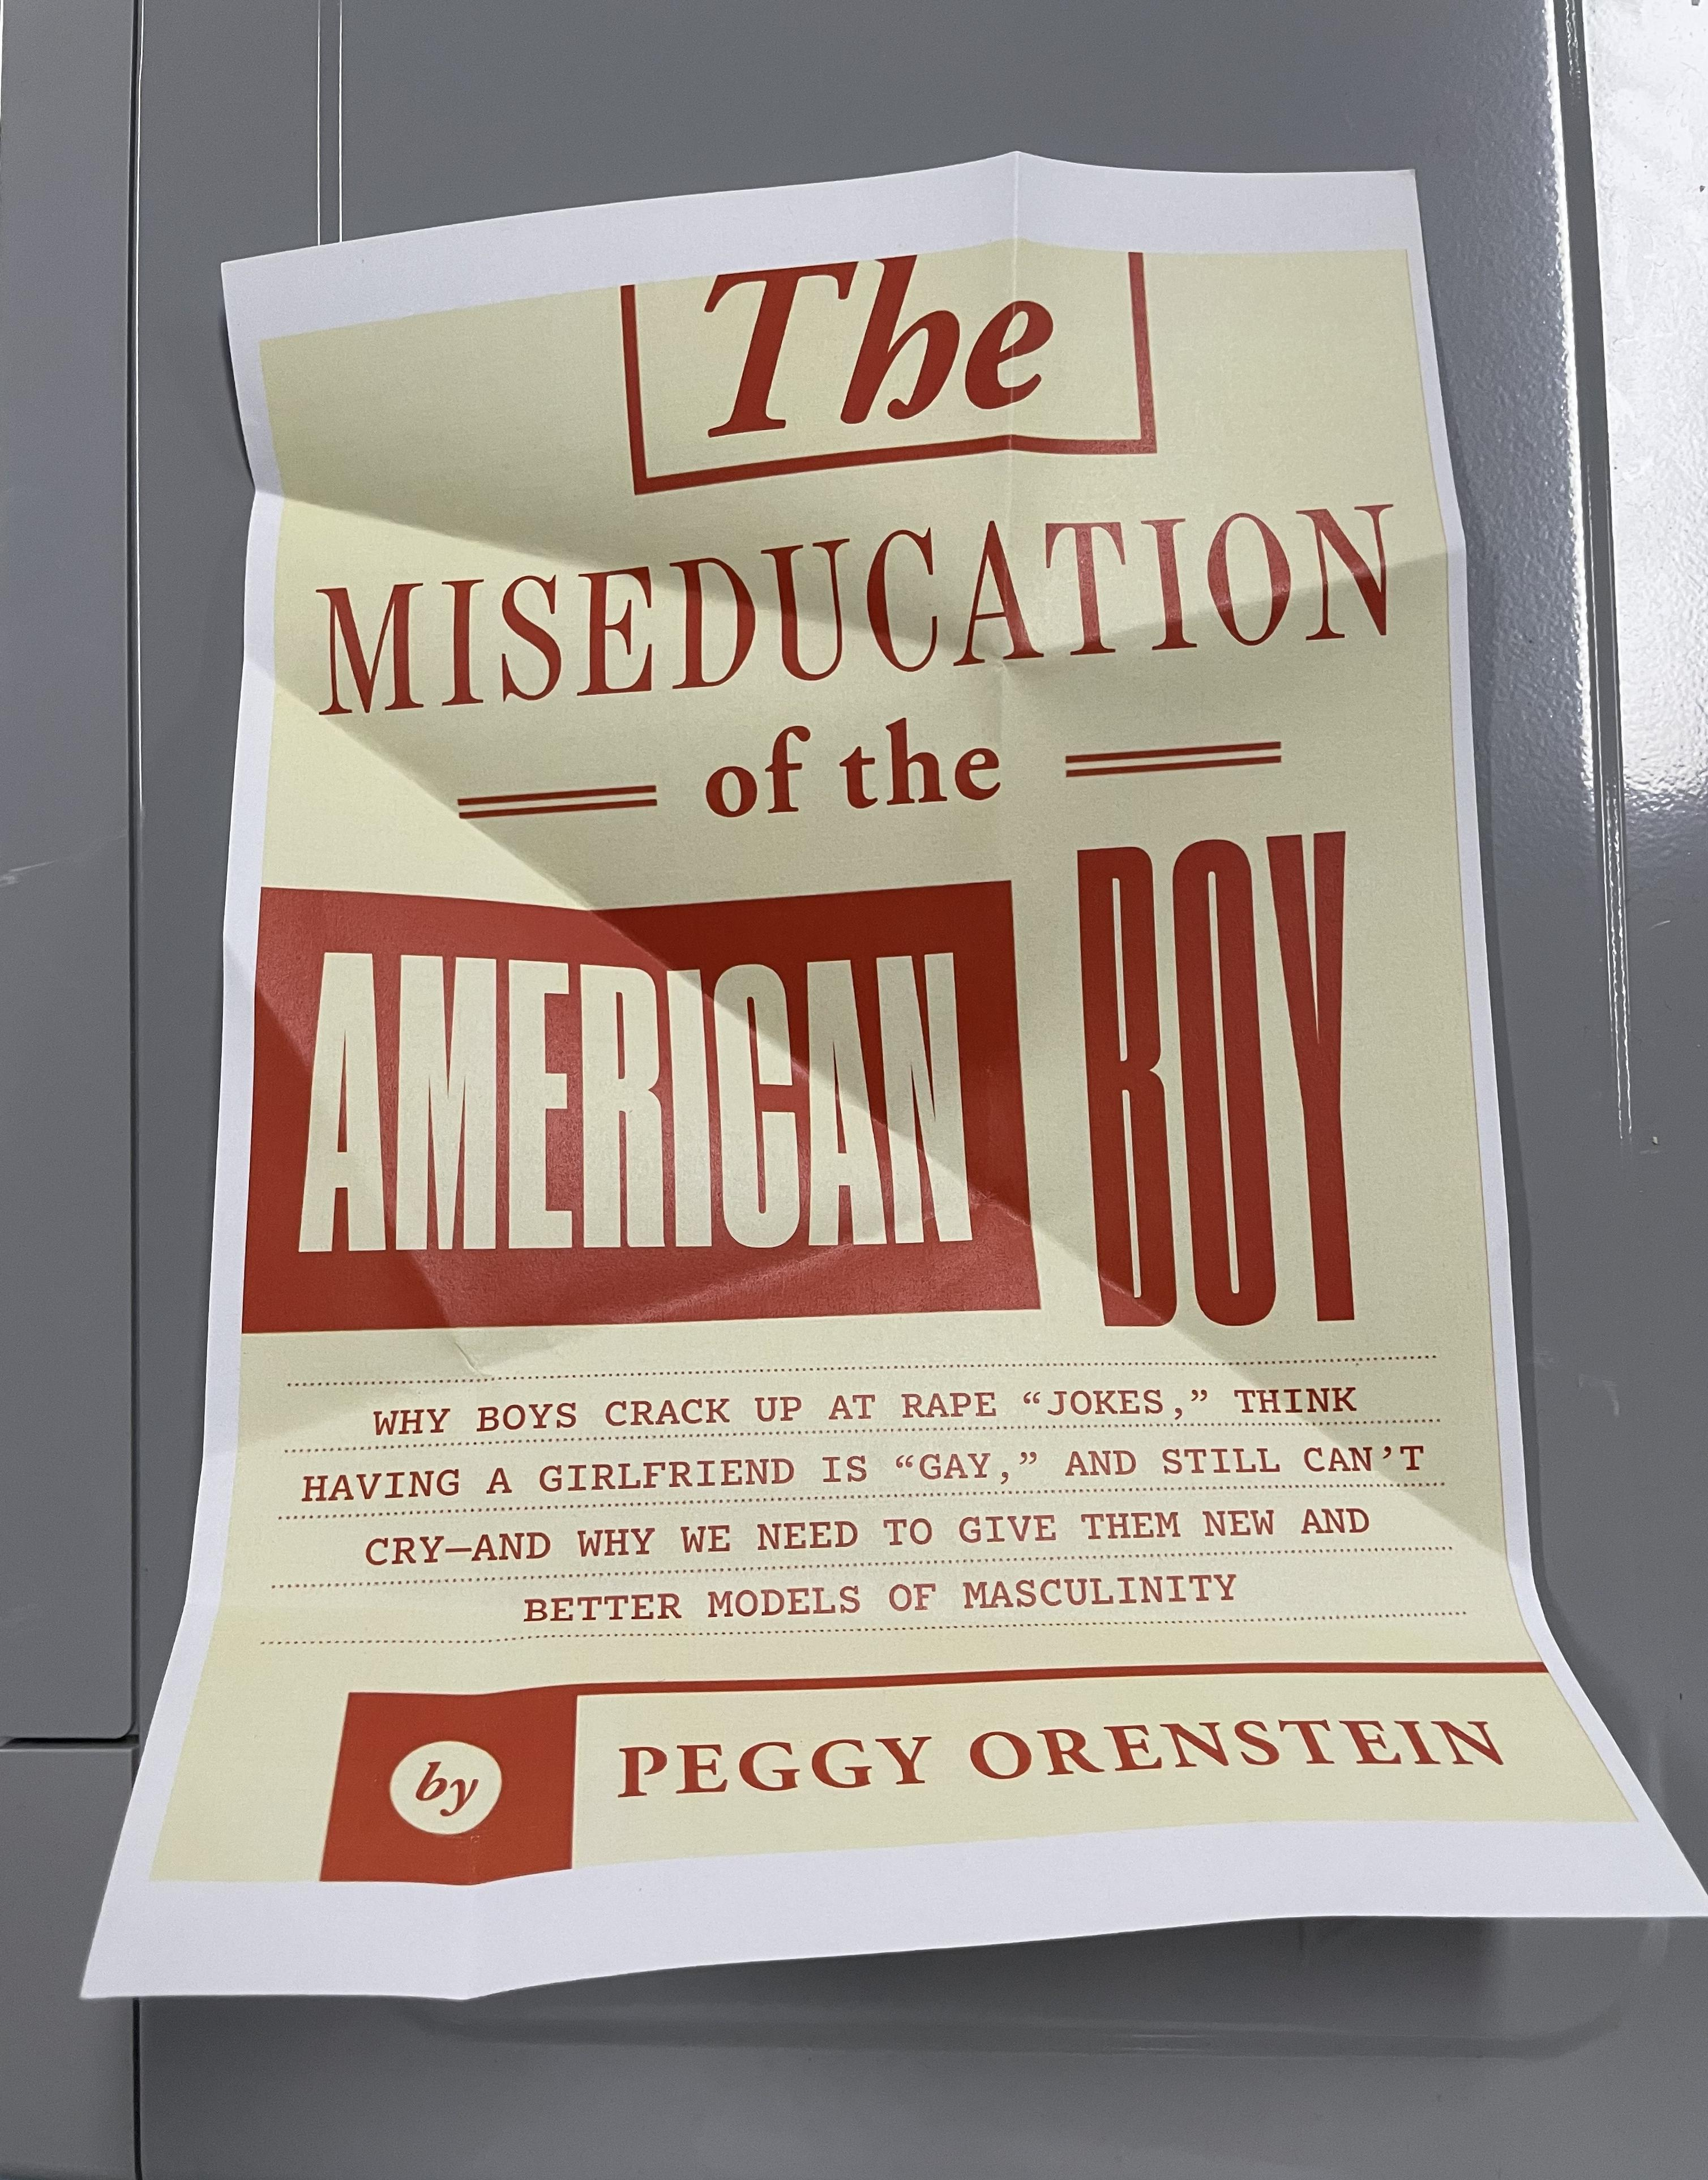paper: (81, 113, 1708, 2150)
